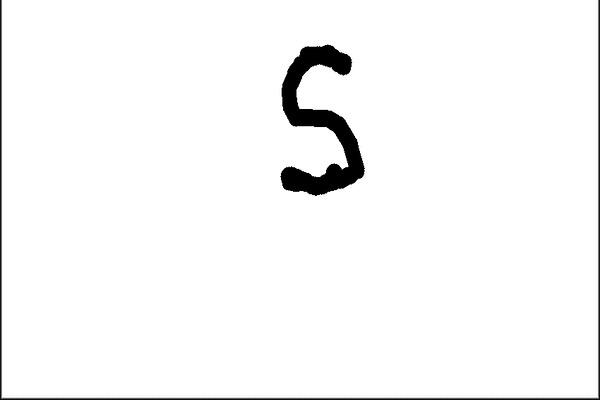S: (264, 34, 387, 208)
